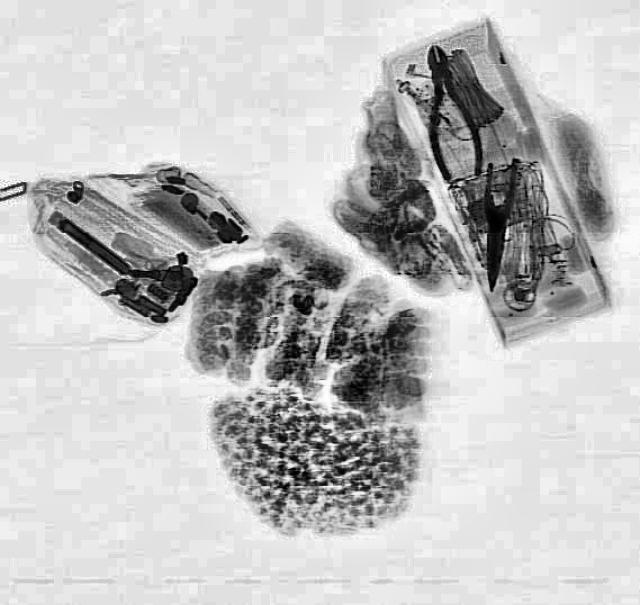Pliers: (410, 41, 488, 183), (474, 156, 518, 292)
